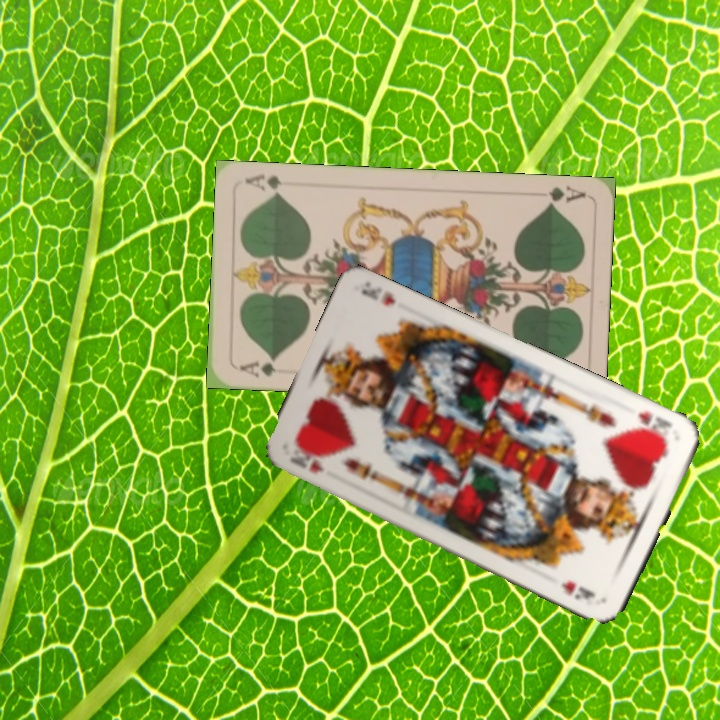GA: (543, 182, 589, 209), (235, 355, 279, 381)
HK: (633, 406, 675, 443), (285, 452, 327, 476)
